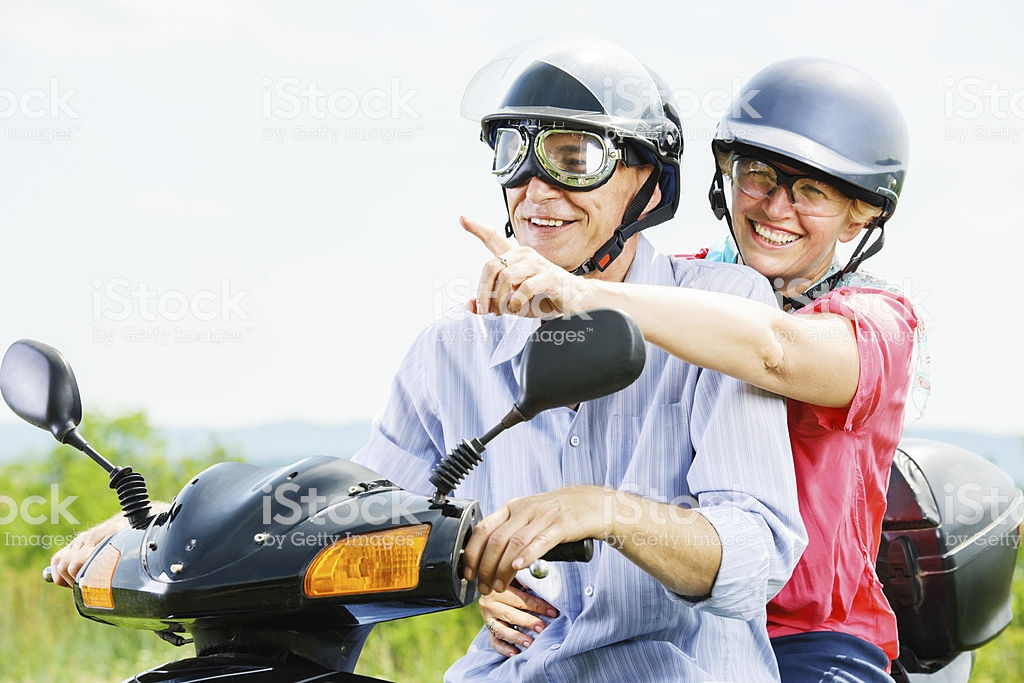helmet: (711, 59, 918, 212), (471, 30, 666, 154)
